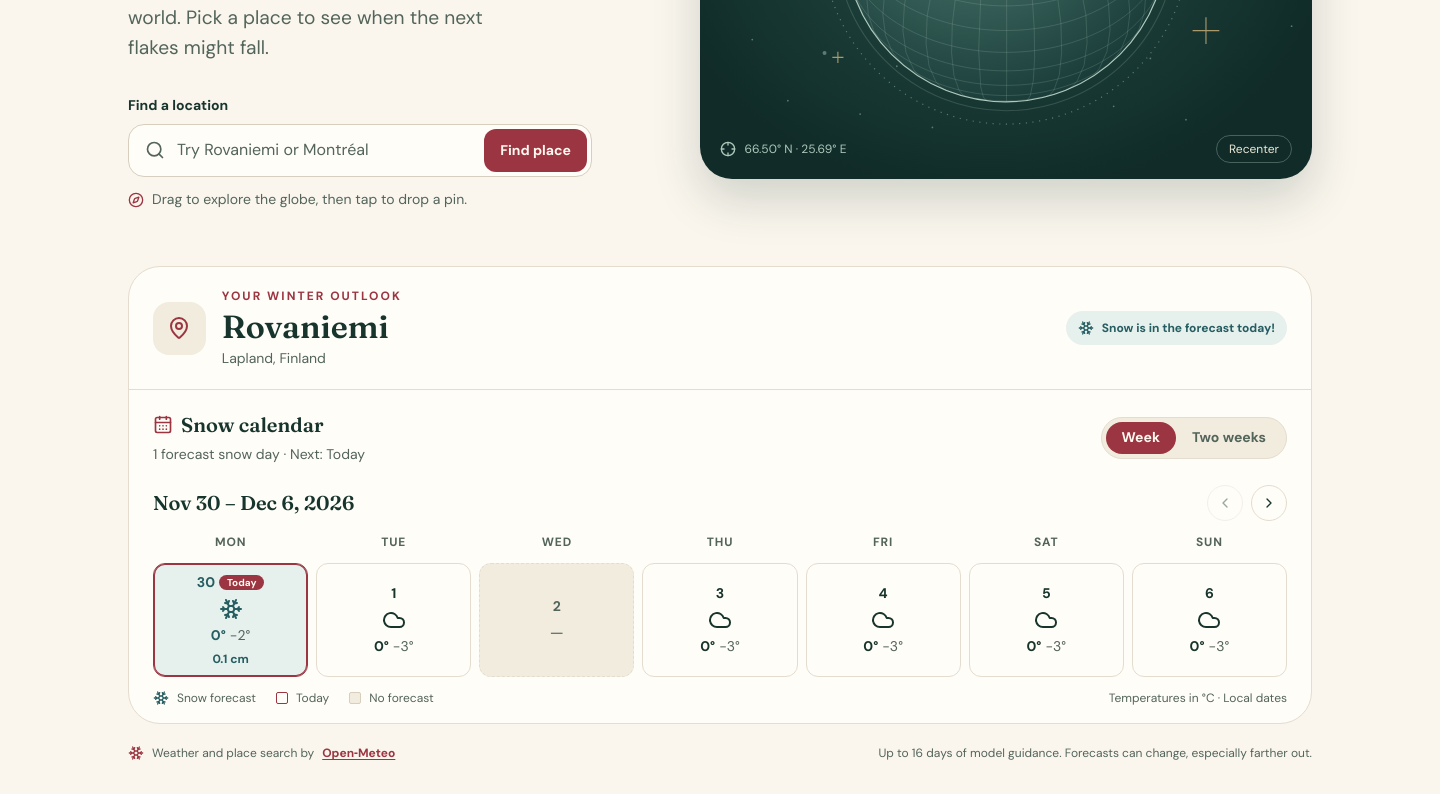
Test: Snowpost › marks snow and distinguishes unavailable forecasts across calendar views
(page scrolled)
Expected: the text named "Snowfall 0.1 cm" is shown, [212,650,249,668]
Expected: the text named "No forecast" is shown, [550,621,564,645]
Click the button "Two weeks" at (1229, 438), box [1176,422,1282,454]
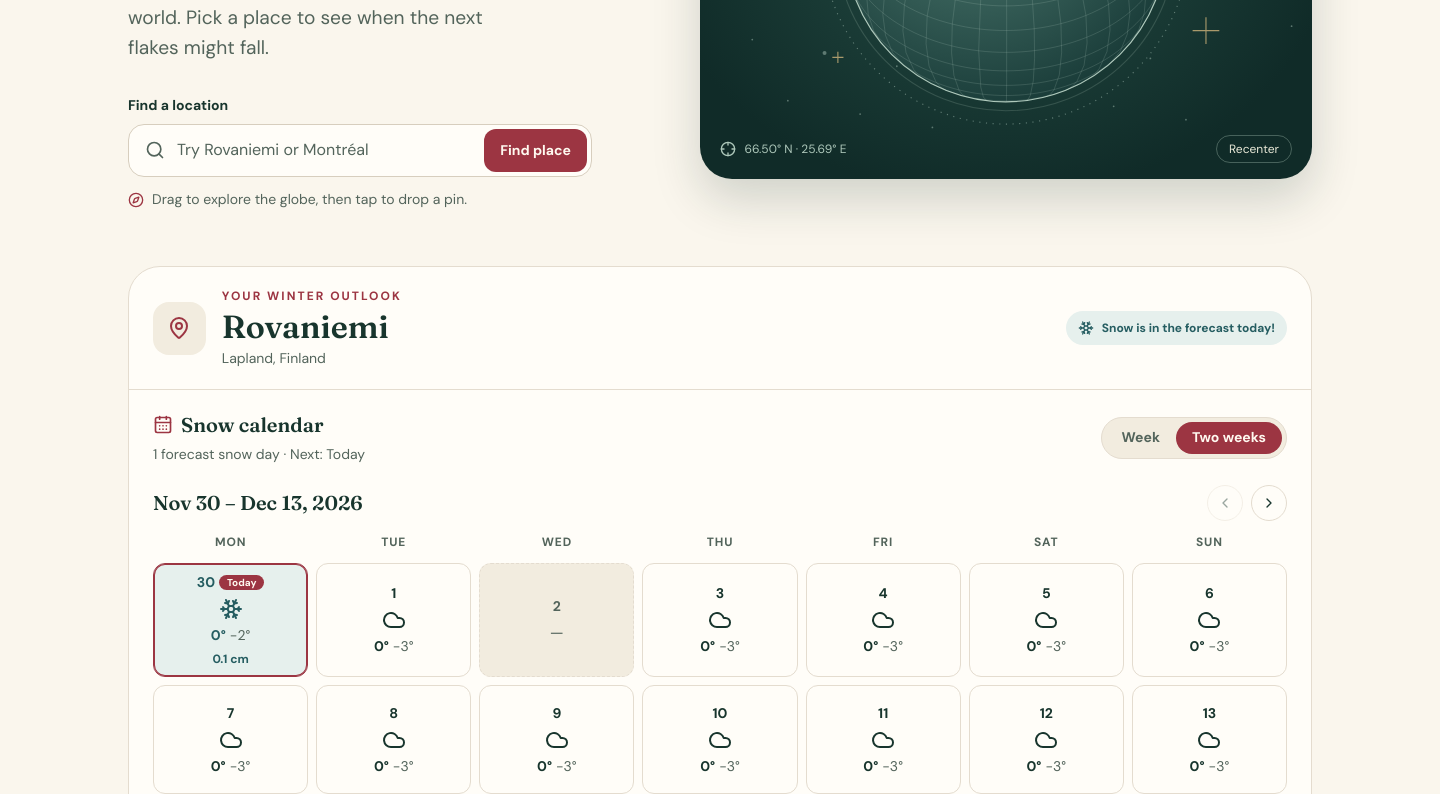
Expected: the element named "Sunday, December 13" is shown, [1132,685,1287,793]
Expected: the heading "Nov 30 – Dec 13, 2026" is shown, [153,488,363,518]
Click the button named "Next two weeks" at (1269, 503), box [1251,485,1287,521]
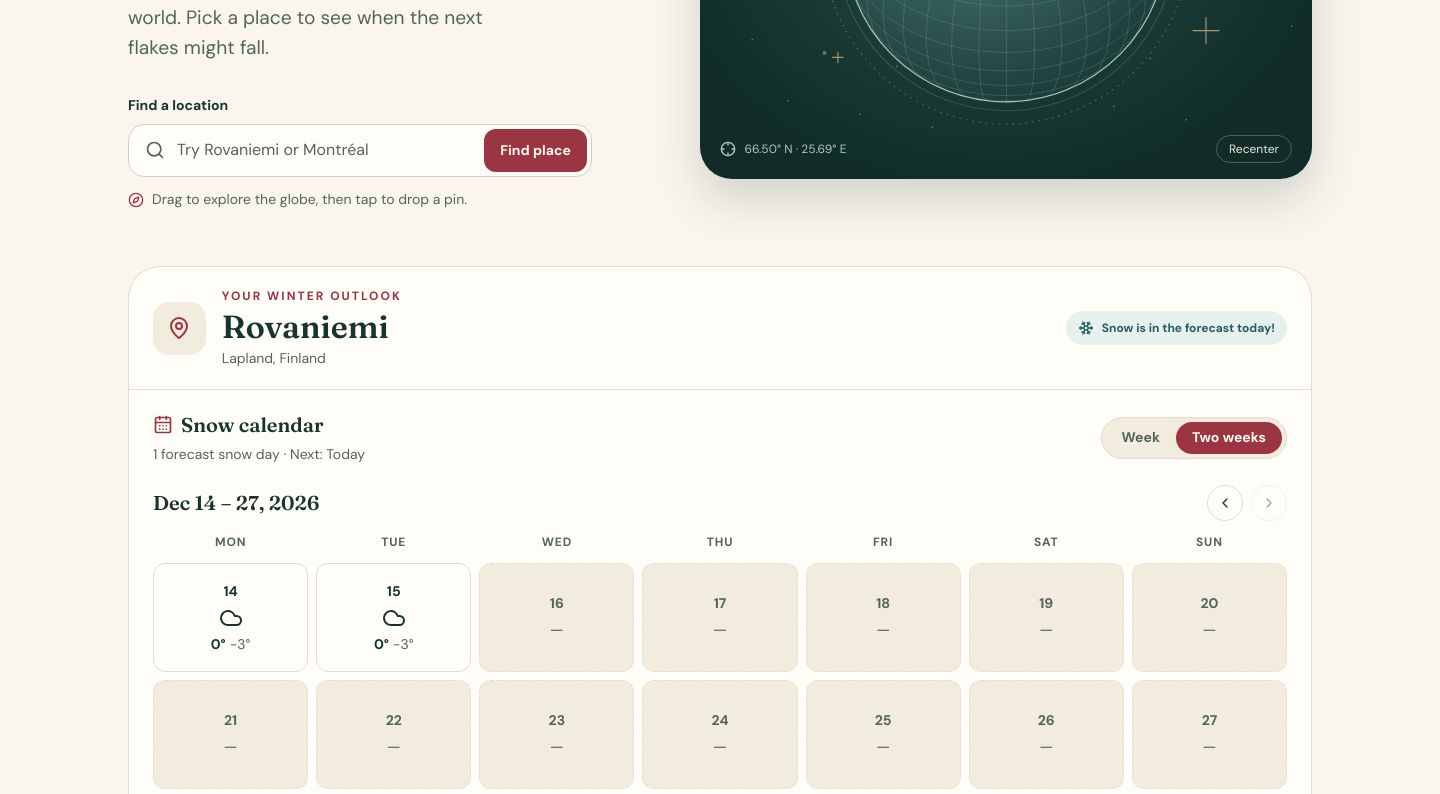
Expected: the element named "Monday, December 14" is shown, [153,563,308,672]
Click the button named "Previous two weeks" at (1225, 503), box [1207,485,1243,521]
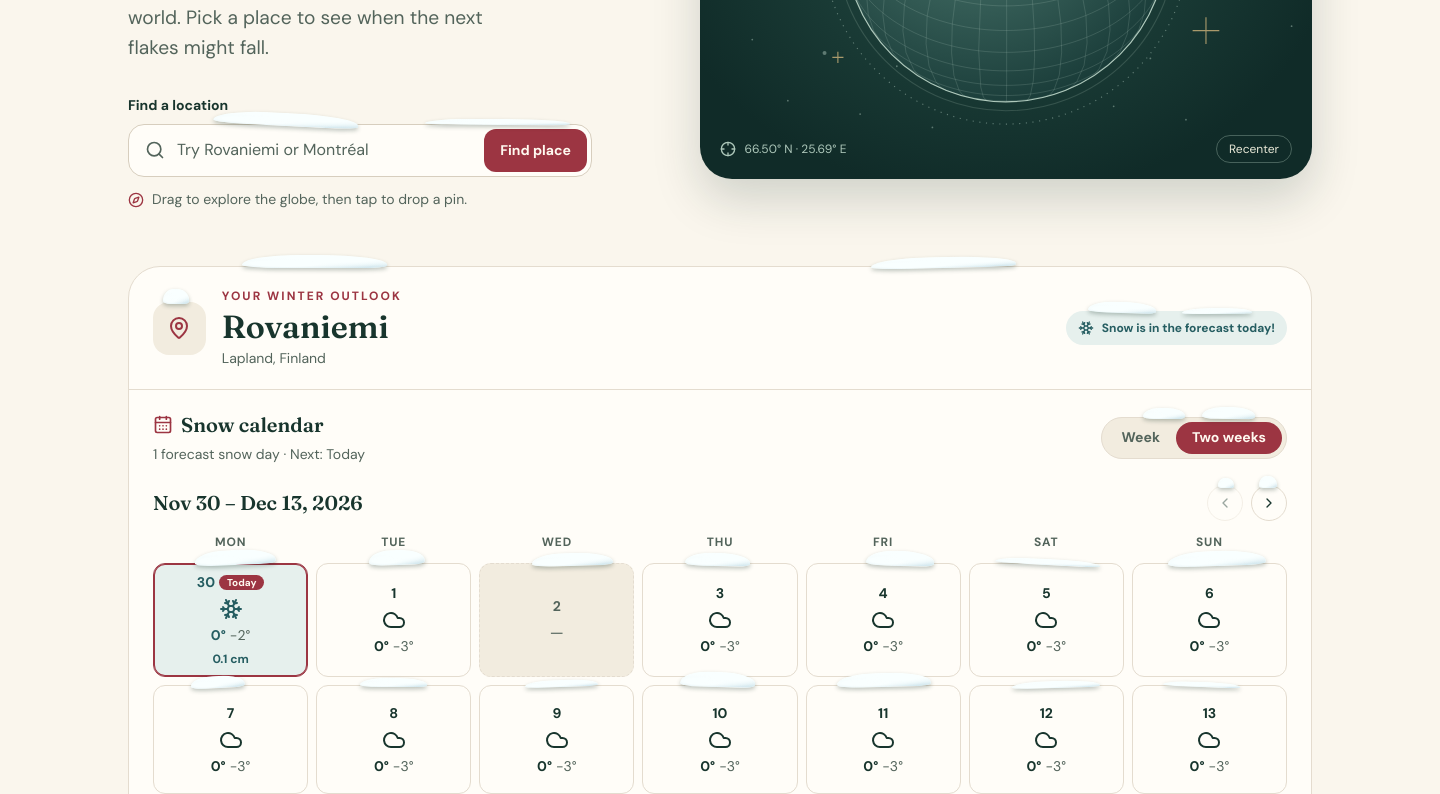
Expected: the heading "Nov 30 – Dec 13, 2026" is shown, [153,488,363,518]
